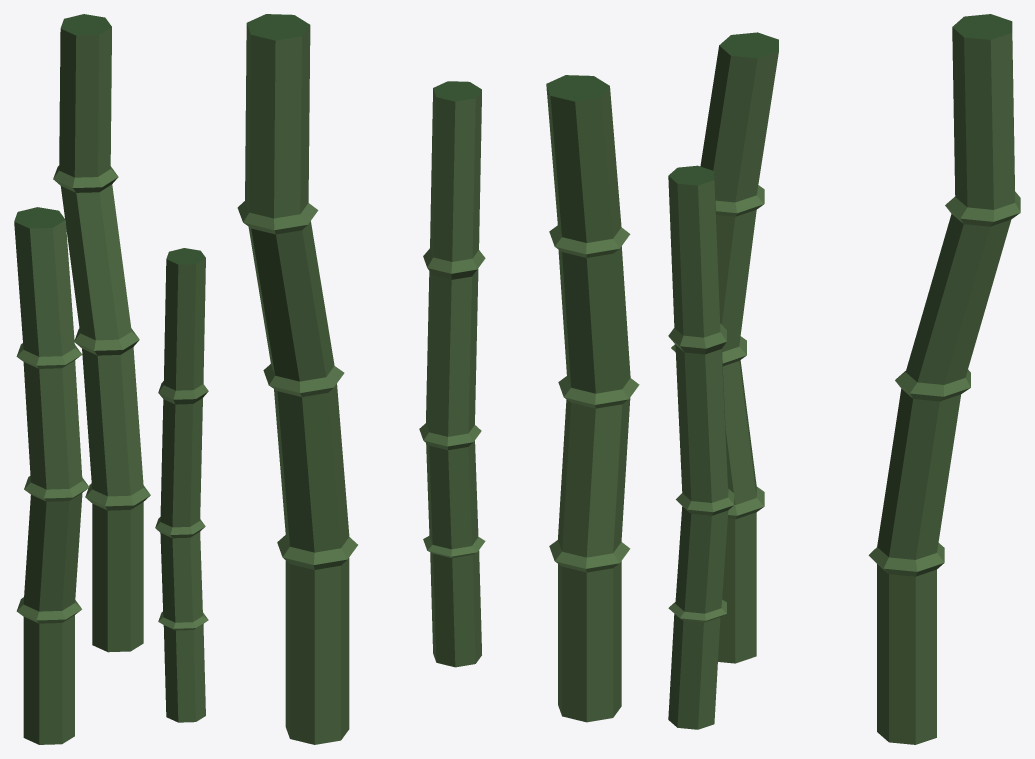
Rendered from Bamboo_2.fbx.
3 views of the same model, side by side, from view 1: azimuth 30°, elevation 25°; view 2: azimuth 150°, elevation 25°; view 3: azimuth 270°, elevation 25° (orthographic). The views are drawn at different scales.
Parts seen in each view (by area): view 1: M_Bamboo 2; view 2: M_Bamboo 2; view 3: M_Bamboo 2.
Part boxes in pixels (<box>): M_Bamboo 2: <box>14,14,208,744</box>; M_Bamboo 2: <box>237,14,639,744</box>; M_Bamboo 2: <box>668,14,1020,744</box>.
Bounding box in the file's own units: 0.407 × 1.15 × 0.5189.
1 material, 1 textured.
